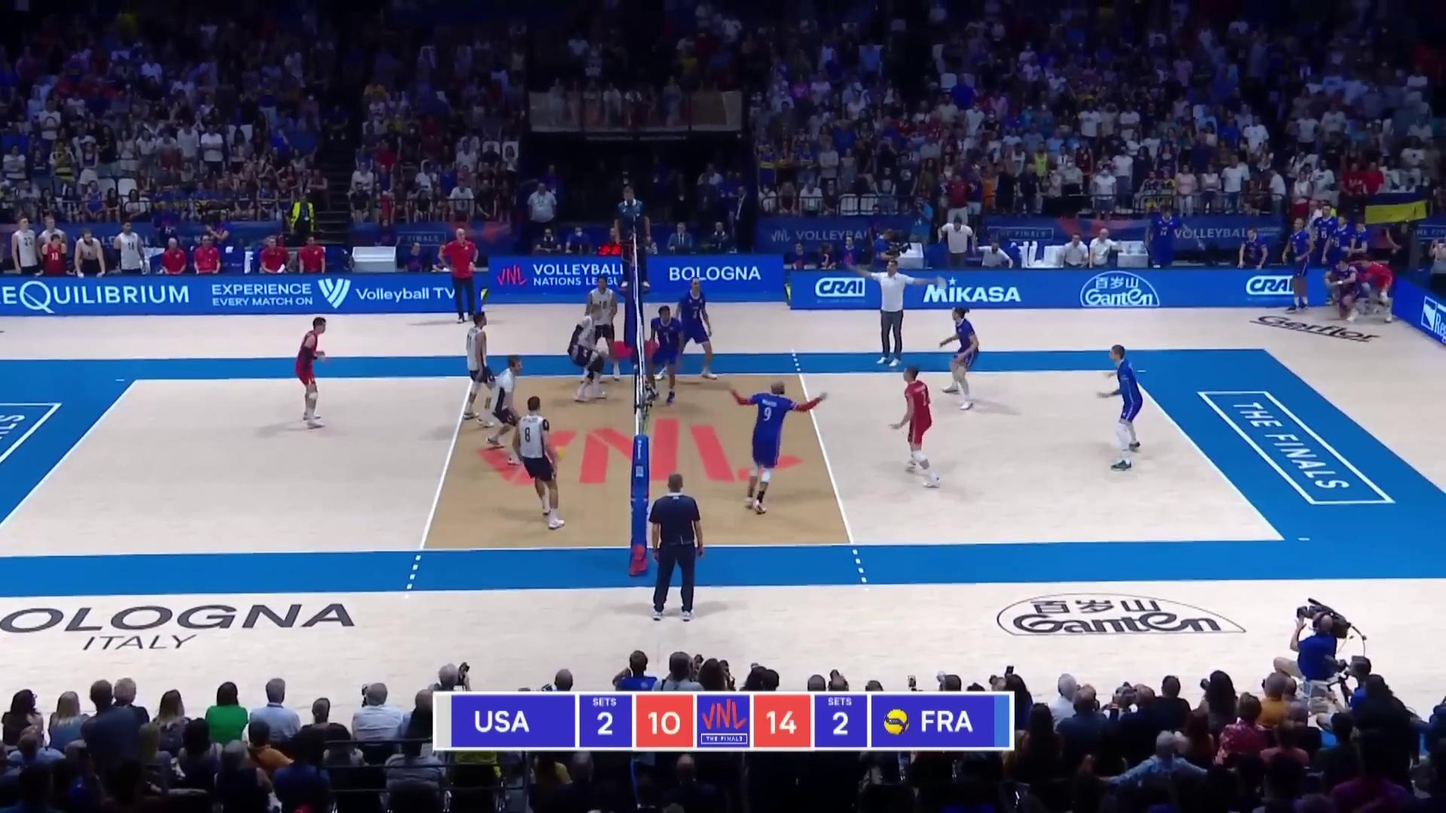player: (731, 380, 823, 514), (513, 395, 571, 530), (890, 367, 945, 487), (1096, 343, 1146, 470), (639, 303, 685, 409), (484, 356, 528, 463), (673, 275, 717, 382), (464, 312, 502, 433), (295, 317, 333, 433), (568, 306, 612, 402), (942, 308, 981, 408), (585, 281, 621, 376)
refree: (643, 475, 703, 621), (615, 184, 650, 289)
